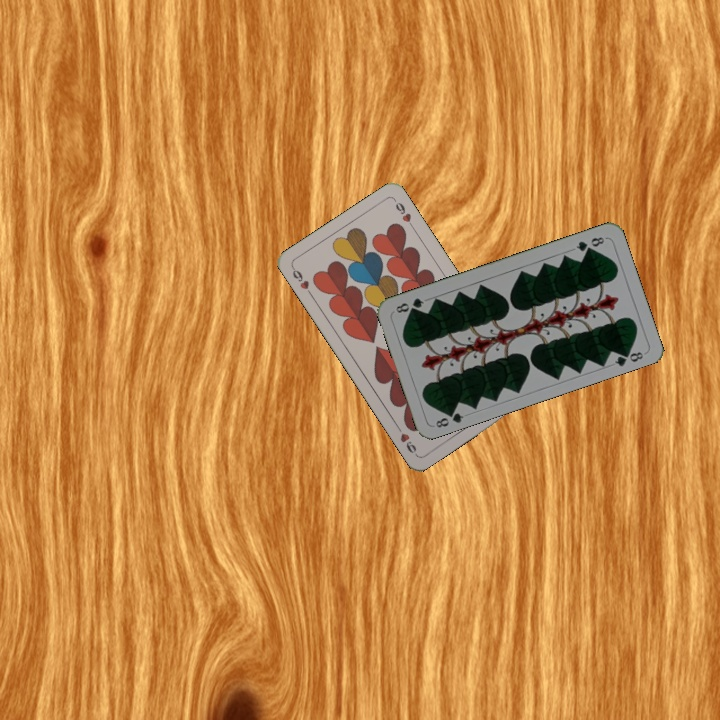G8: (432, 405, 466, 430), (572, 233, 607, 254)
H9: (288, 263, 315, 299)
